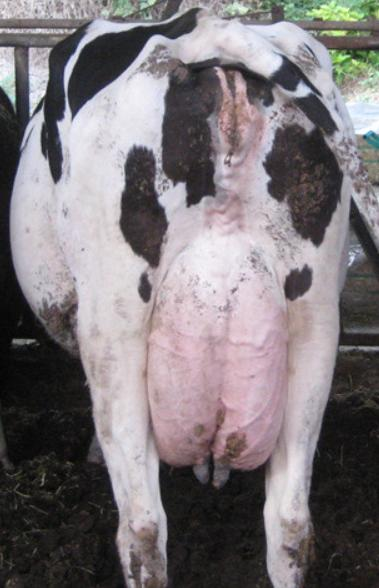cow: (12, 7, 372, 588)
